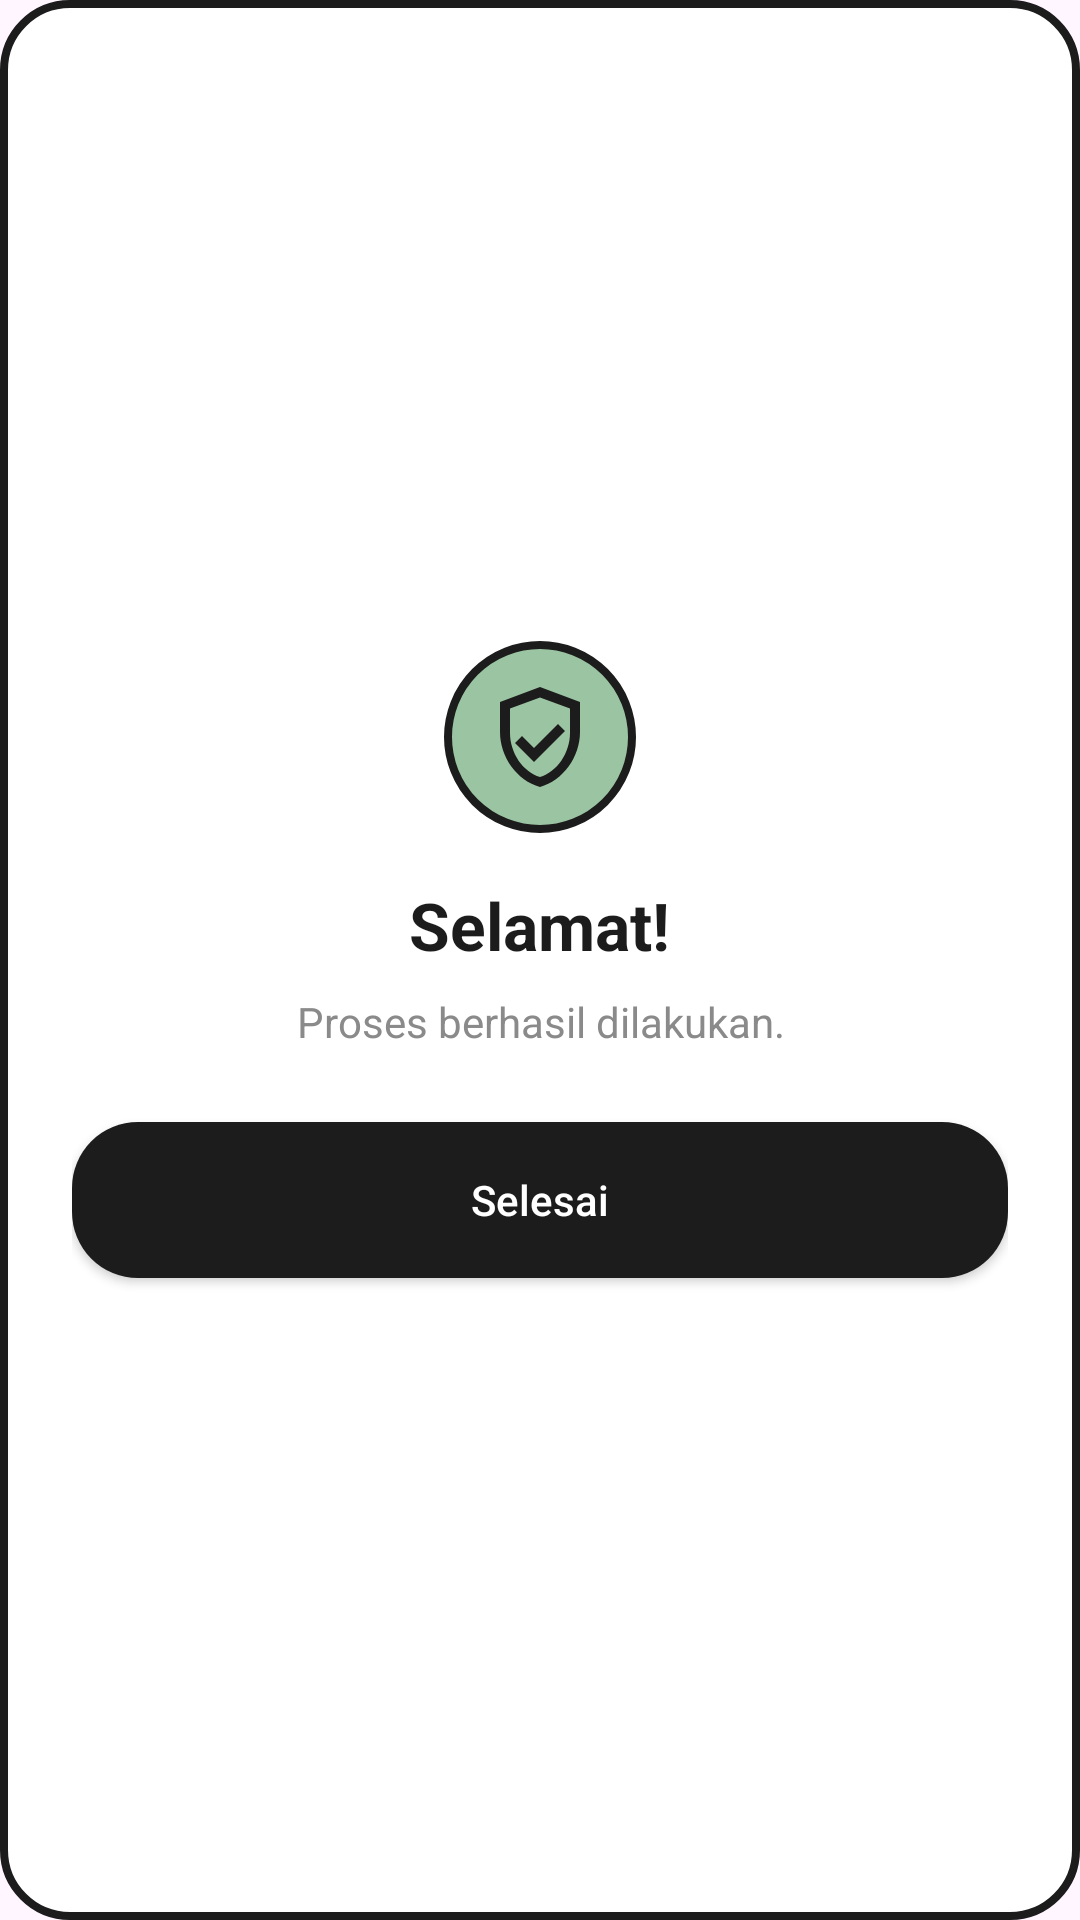

Named icons in this screenshot (1080px×1920px) and their centers, point (x, y):
shield check: point (540, 737)
